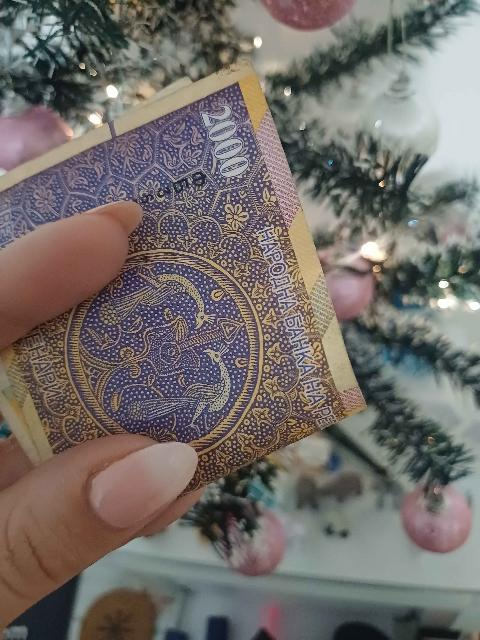2000_note: (0, 65, 363, 489)
